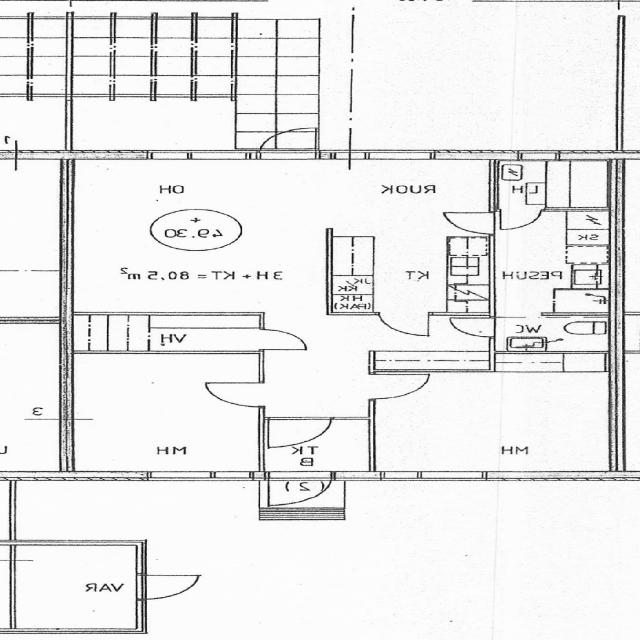door: (269, 471, 331, 509), (260, 125, 316, 159), (270, 418, 332, 448), (138, 575, 200, 599), (370, 374, 428, 398), (379, 312, 429, 338), (208, 383, 264, 406), (442, 212, 495, 234), (260, 330, 308, 349), (448, 318, 495, 337), (501, 209, 542, 230)
